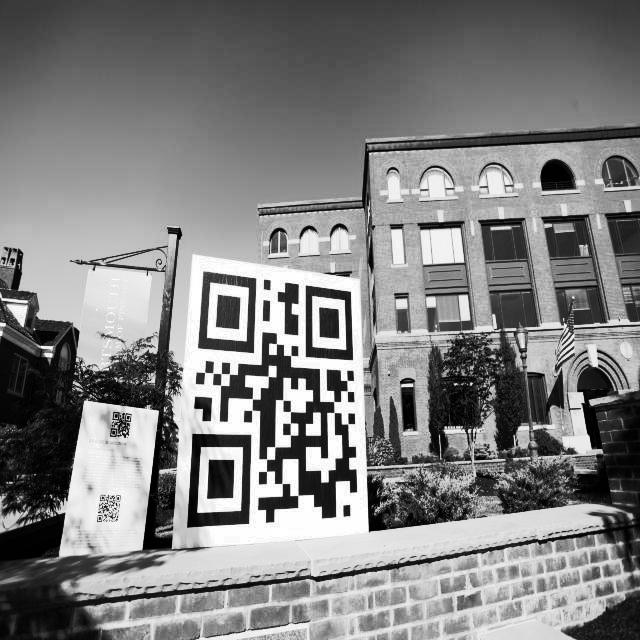qr_code: (187, 271, 358, 527), (97, 495, 121, 522), (110, 412, 132, 439)
